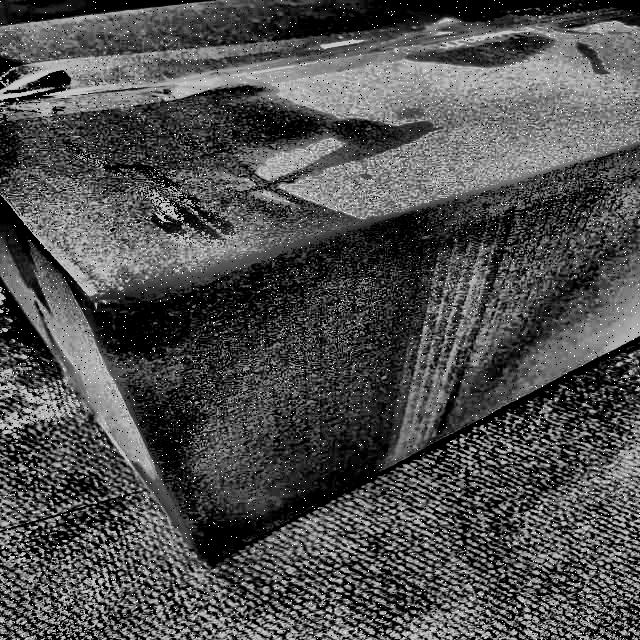box: (0, 0, 640, 574)
wet: (36, 87, 452, 571)
